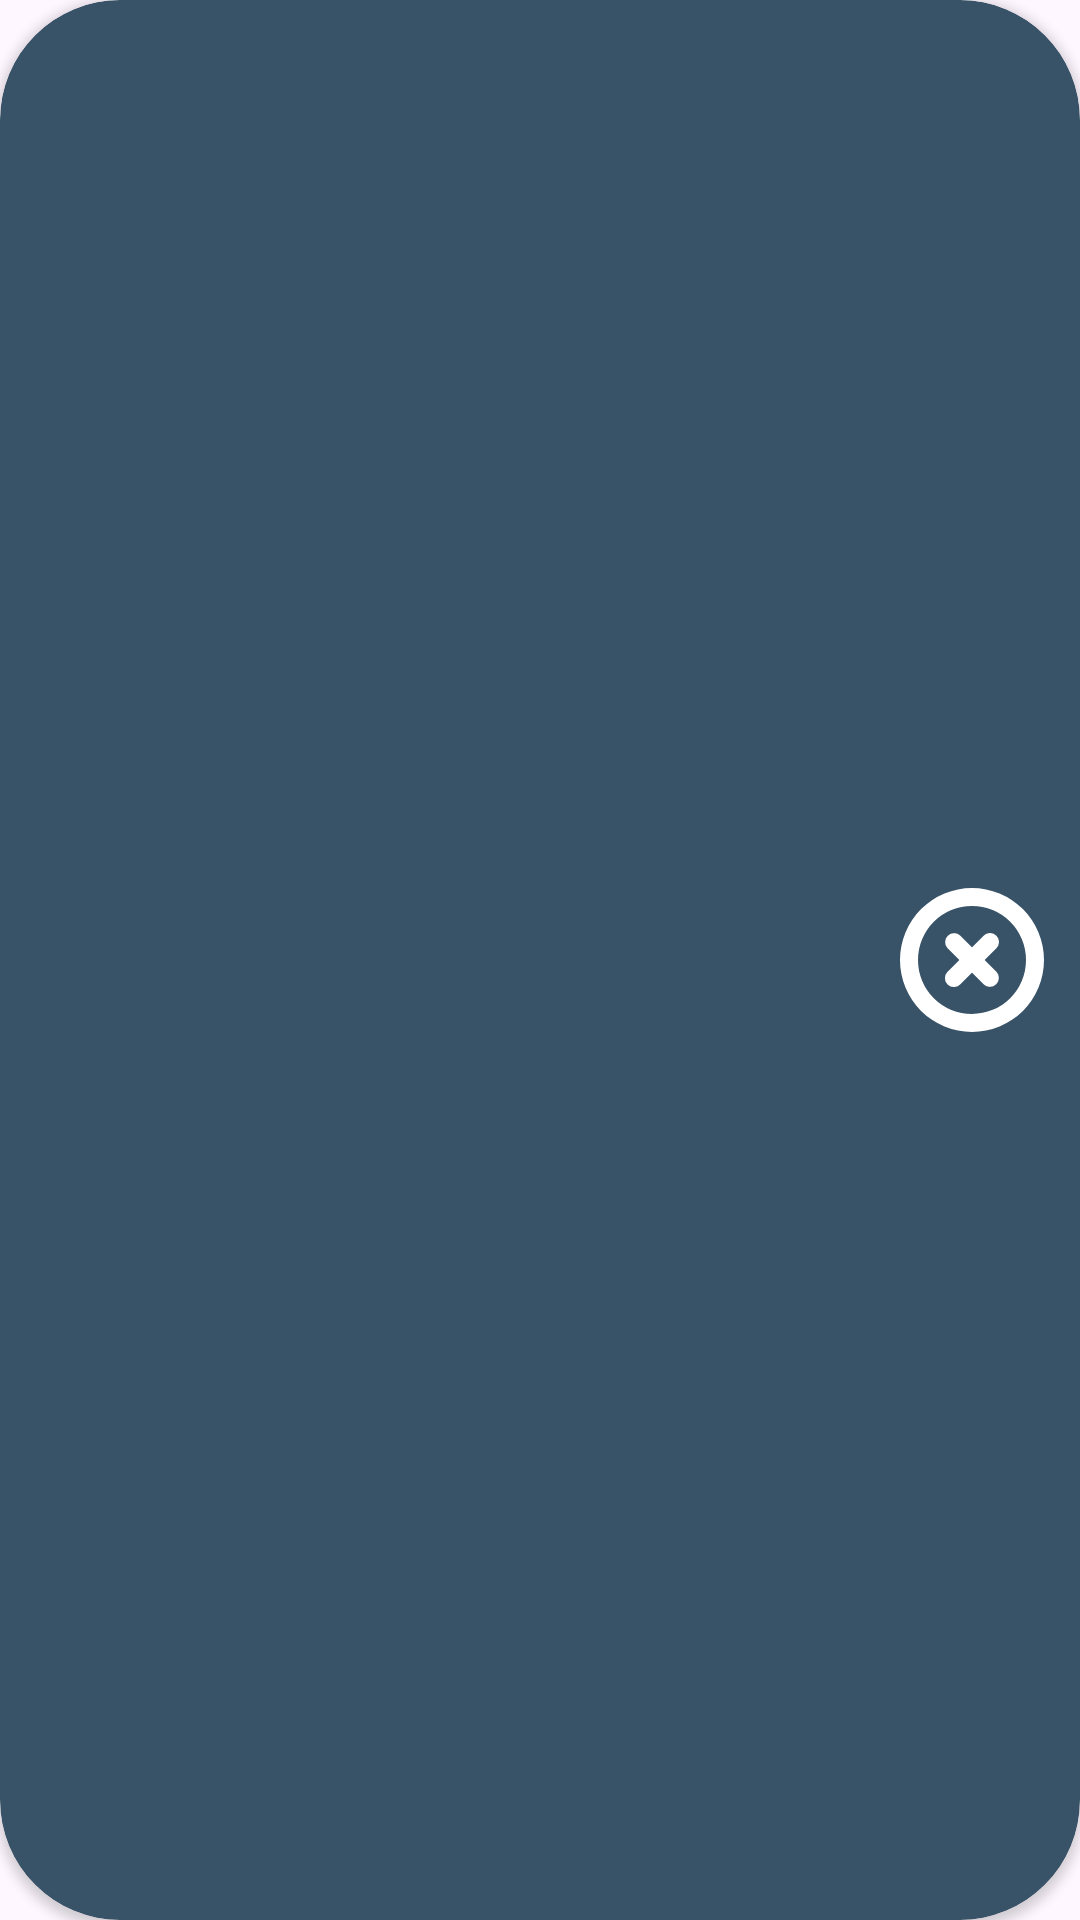

Screen size 1080*1920. Icon name, then its box in pixels as {"x1": x1, "y1": y1, "x2": x2, "y2": y2}:
delete: {"x1": 900, "y1": 888, "x2": 1044, "y2": 1032}
